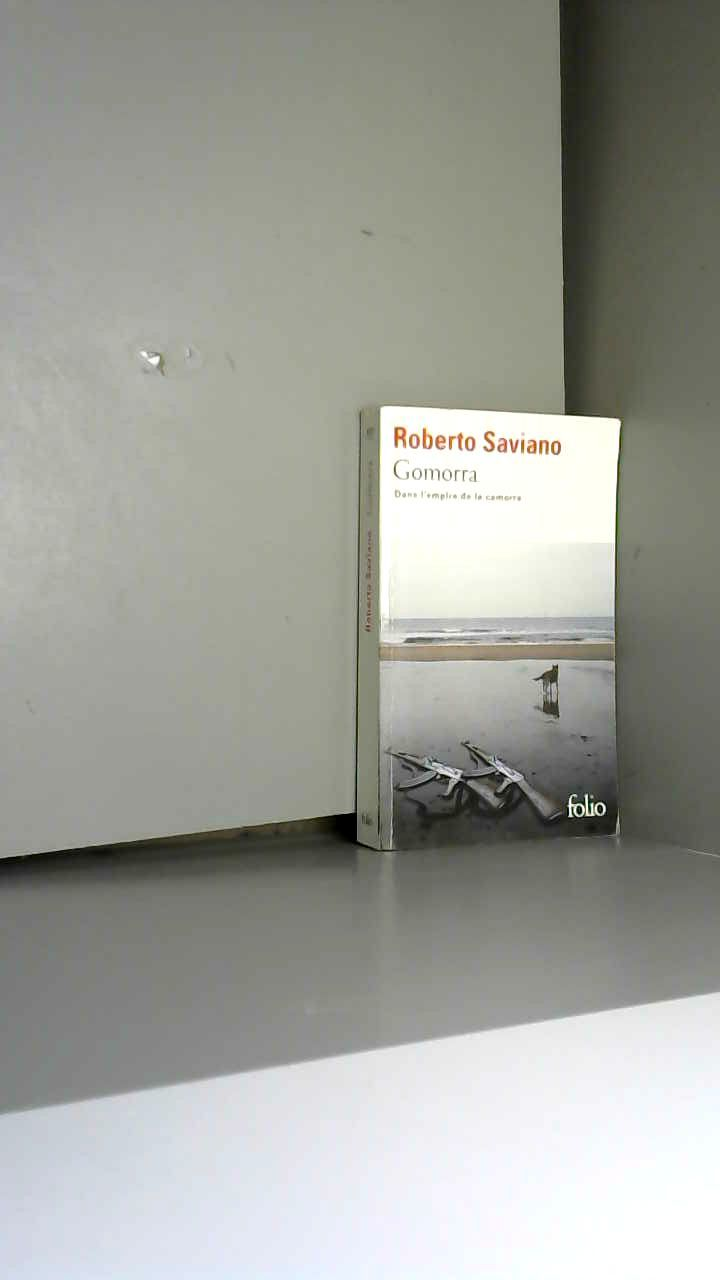book: (350, 380, 716, 875)
